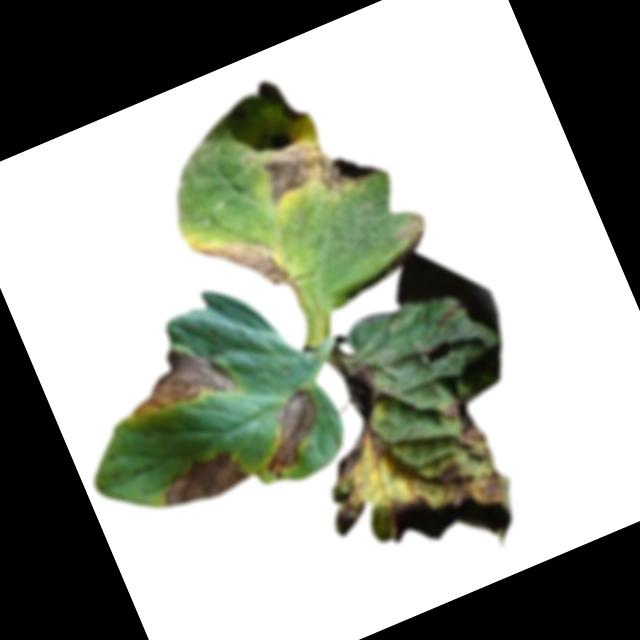Early_blight: (288, 329, 530, 594), (109, 326, 241, 436), (250, 114, 378, 213), (195, 218, 295, 316), (243, 387, 337, 481), (150, 440, 253, 516), (391, 209, 434, 255), (432, 298, 465, 326)
